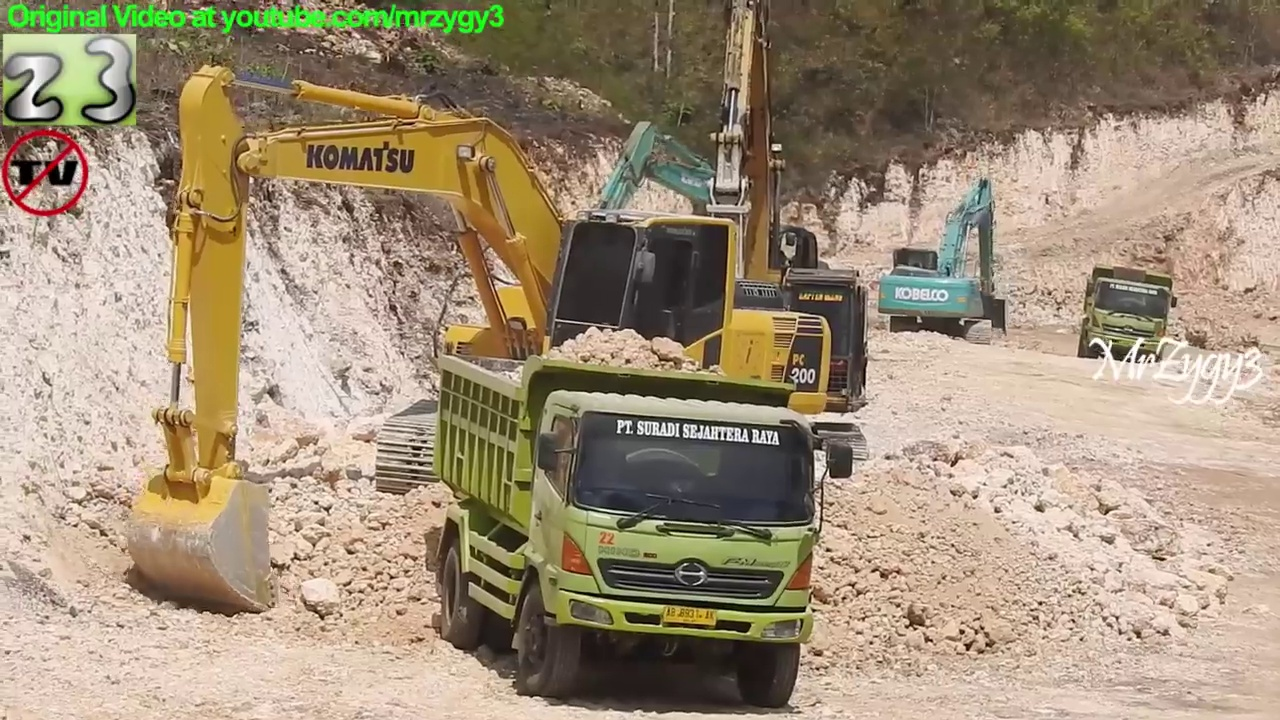excavator: (124, 61, 833, 617), (464, 3, 875, 486), (874, 171, 1015, 344)
truck: (426, 347, 860, 713), (1077, 262, 1181, 368)
